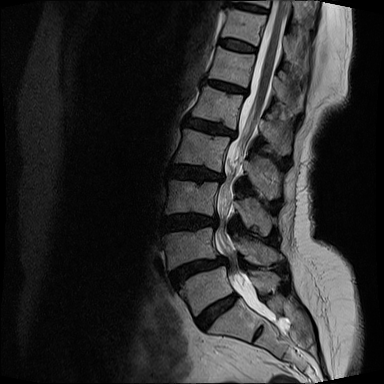Degenerative Disc Disease (DDD): (199, 74, 254, 98), (225, 2, 271, 17)
Lumbar Disc Bulge (LDB): (164, 249, 237, 296), (157, 206, 225, 240), (165, 157, 230, 186), (178, 113, 241, 142)
Normal IVD: (188, 287, 244, 335), (212, 36, 261, 59)
Spinal Stenosis (SS): (210, 242, 235, 279), (205, 198, 230, 235), (211, 161, 233, 190), (224, 120, 244, 145), (234, 81, 258, 100)
Spondylolisthesis: (154, 242, 241, 314)
Thoracic Disc Bulge (TDB): (201, 74, 250, 95)
